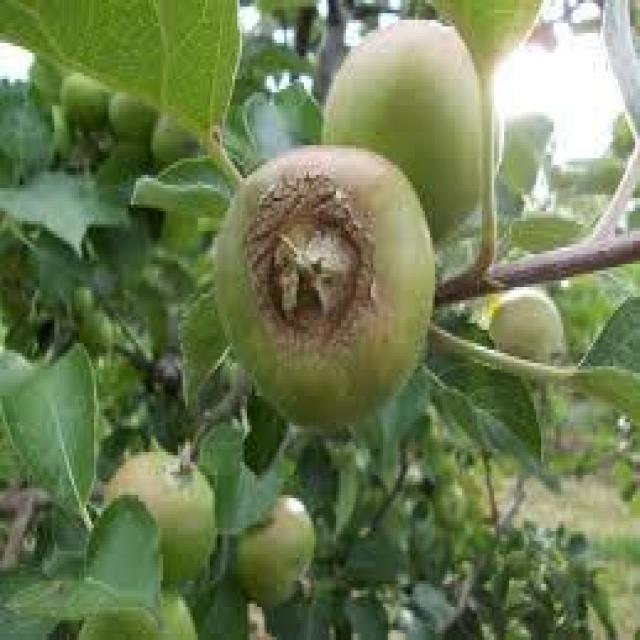Fresh Apple: (315, 22, 503, 193), (100, 450, 228, 585), (240, 490, 318, 607), (485, 285, 563, 370)
Rotten: (210, 142, 433, 425)
